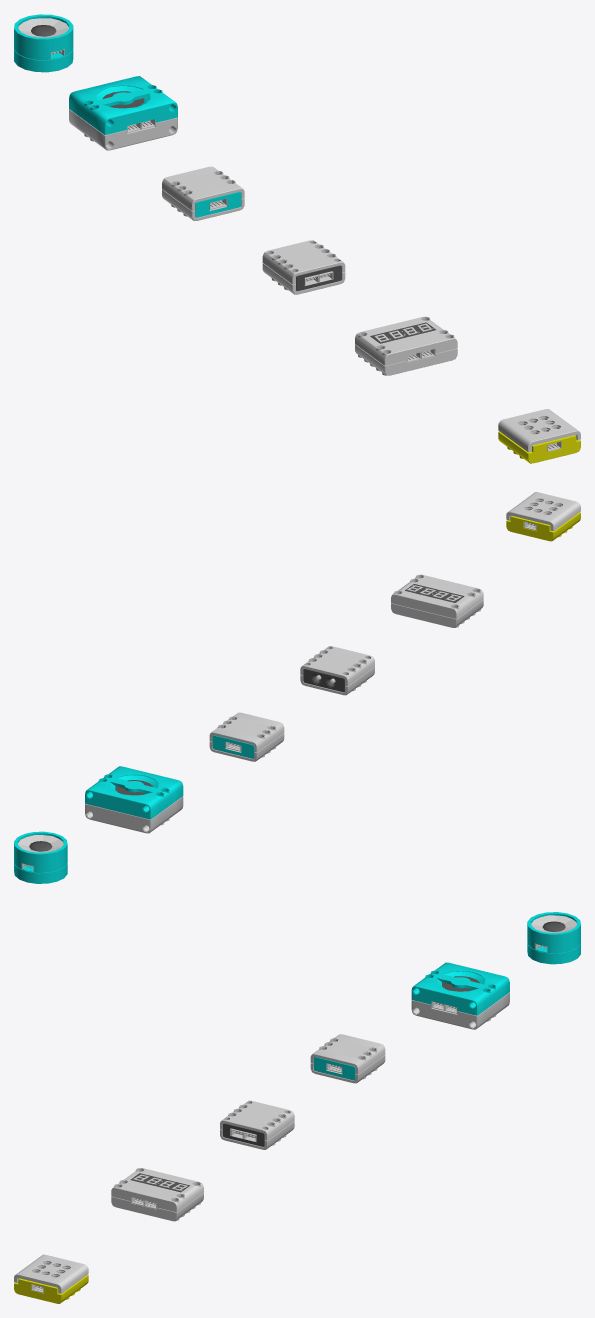
Rendered from lingjian_chuanganqi.fbx.
The picture shows the model from 3 angles, top to bottom: view 1: azimuth 30°, elevation 25°; view 2: azimuth 150°, elevation 25°; view 3: azimuth 330°, elevation 25°; orthographic projection. The views are drawn at different scales.
Visible parts, largest first — view 1: s06, s04, s01, s02, s03, s05; view 2: s06, s04, s02, s01, s03, s05; view 3: s06, s04, s02, s01, s03, s05.
Part boxes in pixels (<box>): s06: <box>69,76,177,150</box>; s04: <box>355,316,457,375</box>; s01: <box>262,240,345,294</box>; s02: <box>162,166,244,220</box>; s03: <box>498,409,580,463</box>; s05: <box>14,14,73,72</box>; s06: <box>85,766,183,833</box>; s04: <box>391,574,483,627</box>; s02: <box>209,712,284,761</box>; s01: <box>300,646,374,695</box>; s03: <box>506,492,580,541</box>; s05: <box>14,831,67,883</box>; s06: <box>411,962,509,1029</box>; s04: <box>111,1168,203,1221</box>; s02: <box>310,1034,385,1083</box>; s01: <box>220,1100,294,1149</box>; s03: <box>14,1254,88,1303</box>; s05: <box>527,912,580,964</box>.
Bounding box in the file's own units: 57.91 × 18 × 553.
